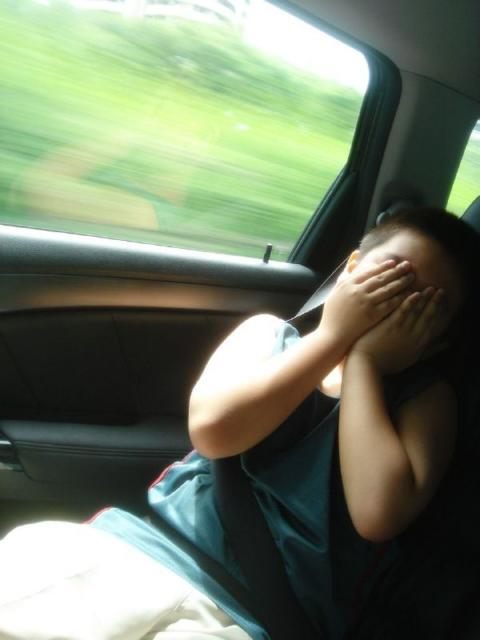Seatbelt: (206, 260, 347, 628)
